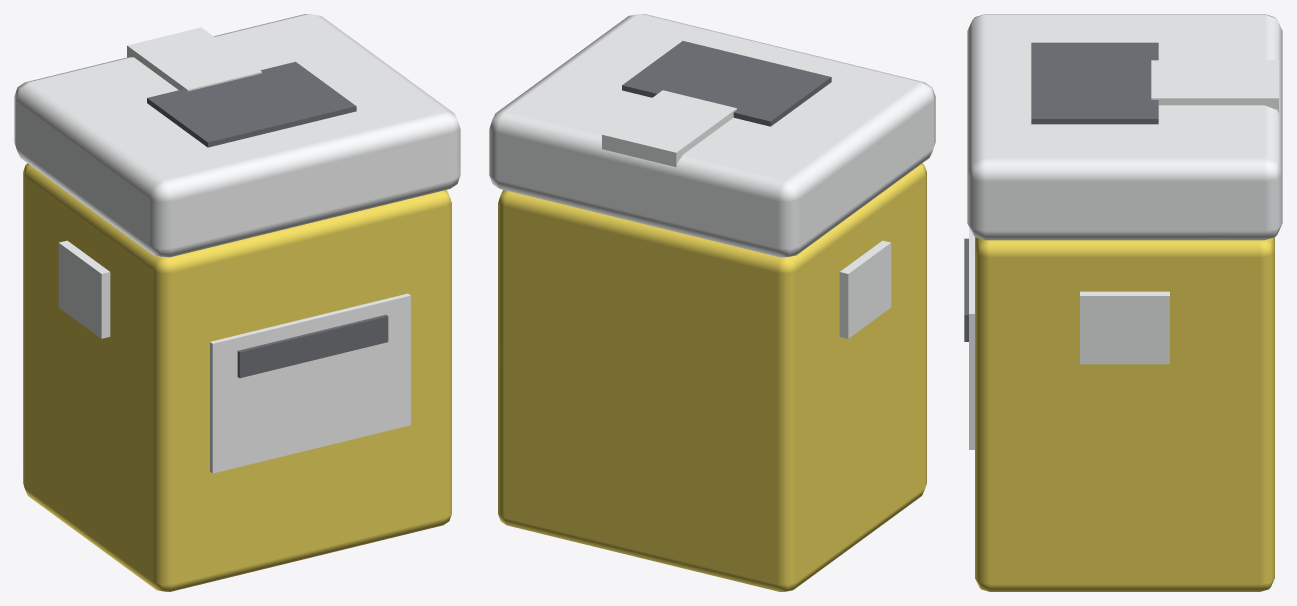
File: sharps-bin.glb
The picture shows the model from 3 angles, left to right: view 1: azimuth 30°, elevation 25°; view 2: azimuth 150°, elevation 25°; view 3: azimuth 270°, elevation 25°; orthographic projection. The views are drawn at different scales.
Parts seen in each view (by area): view 1: sharps-bin; view 2: sharps-bin; view 3: sharps-bin.
Boxes of the visible parts, x1,y1,x2,y2 form: sharps-bin: (14,14,460,591); sharps-bin: (489,14,935,591); sharps-bin: (964,14,1282,591).
Size of the model in its own units: 0.254 by 0.3252 by 0.212.
